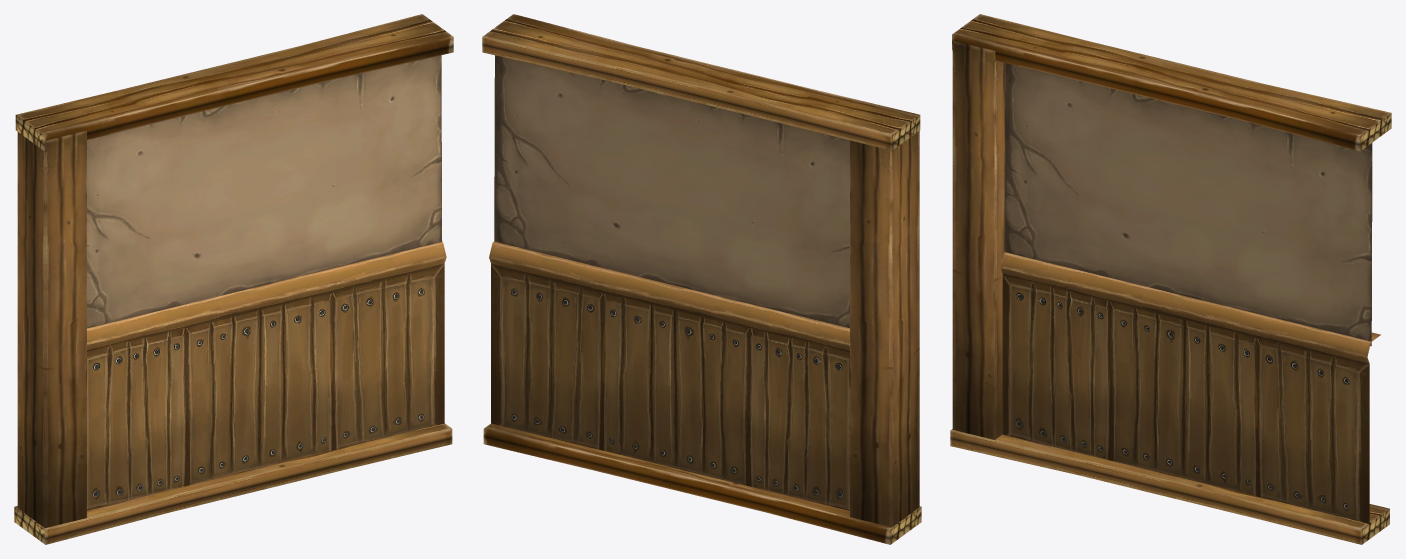
Rendered from SM_wall_00.gltf.
3 views of the same model, side by side, from view 1: azimuth 30°, elevation 25°; view 2: azimuth 150°, elevation 25°; view 3: azimuth 330°, elevation 25° (orthographic).
Visible parts, largest first — view 1: SM_wall_00; view 2: SM_wall_00; view 3: SM_wall_00.
Part boxes in pixels (bbox=[...]): SM_wall_00: bbox=[14, 14, 453, 544]; SM_wall_00: bbox=[482, 14, 921, 544]; SM_wall_00: bbox=[950, 14, 1391, 544].
Bounding box in the file's own units: 2.03 × 1.94 × 0.2704.
1 material, 1 textured.
